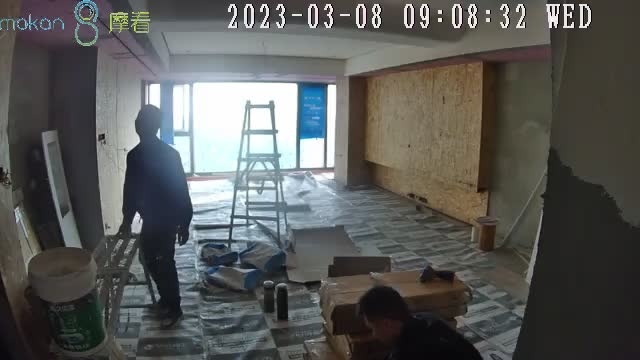people: (120, 104, 194, 325)
window: (173, 82, 336, 173)
